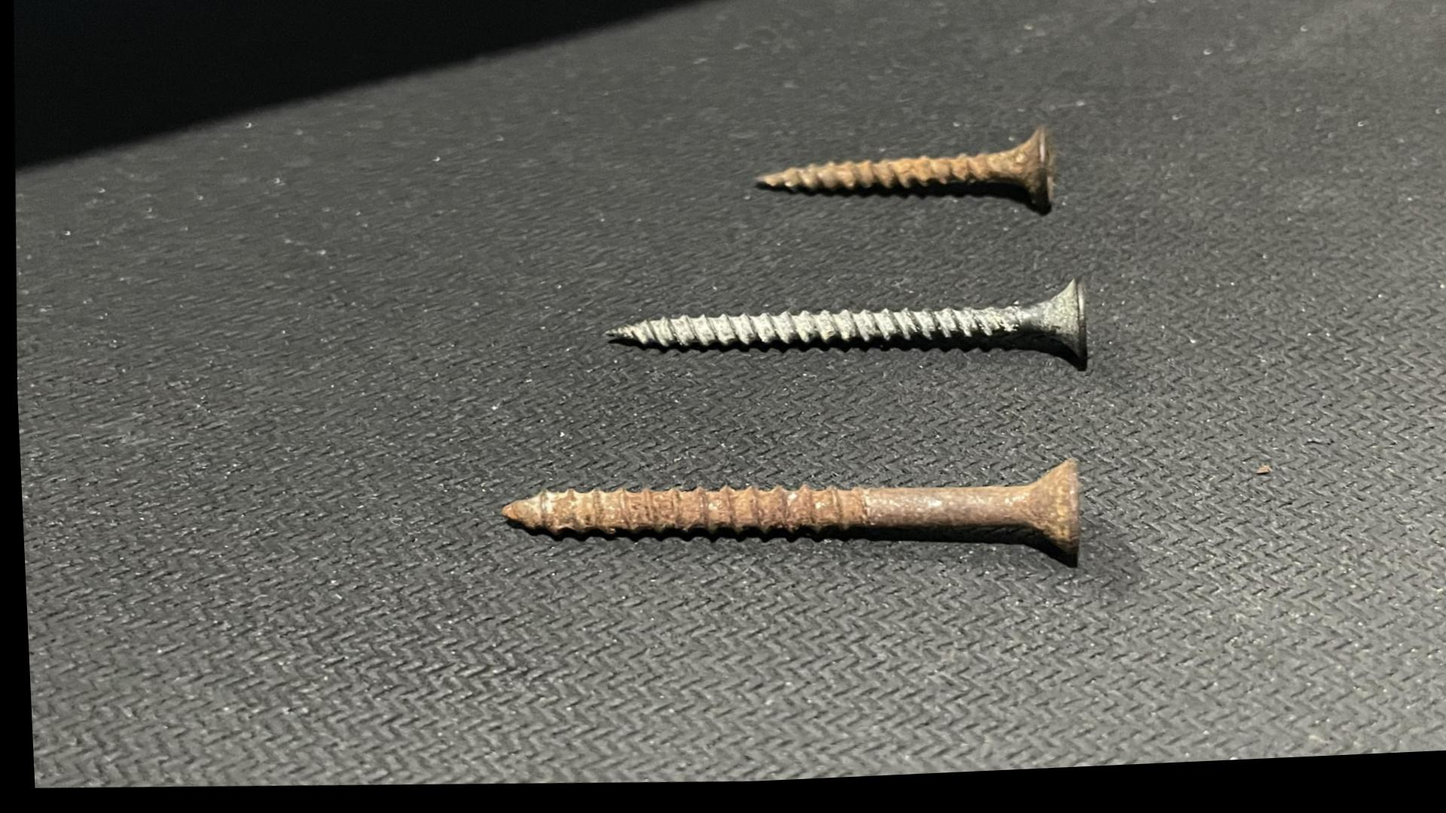screw: (467, 438, 1136, 613), (539, 254, 1137, 415), (723, 106, 1114, 255)
